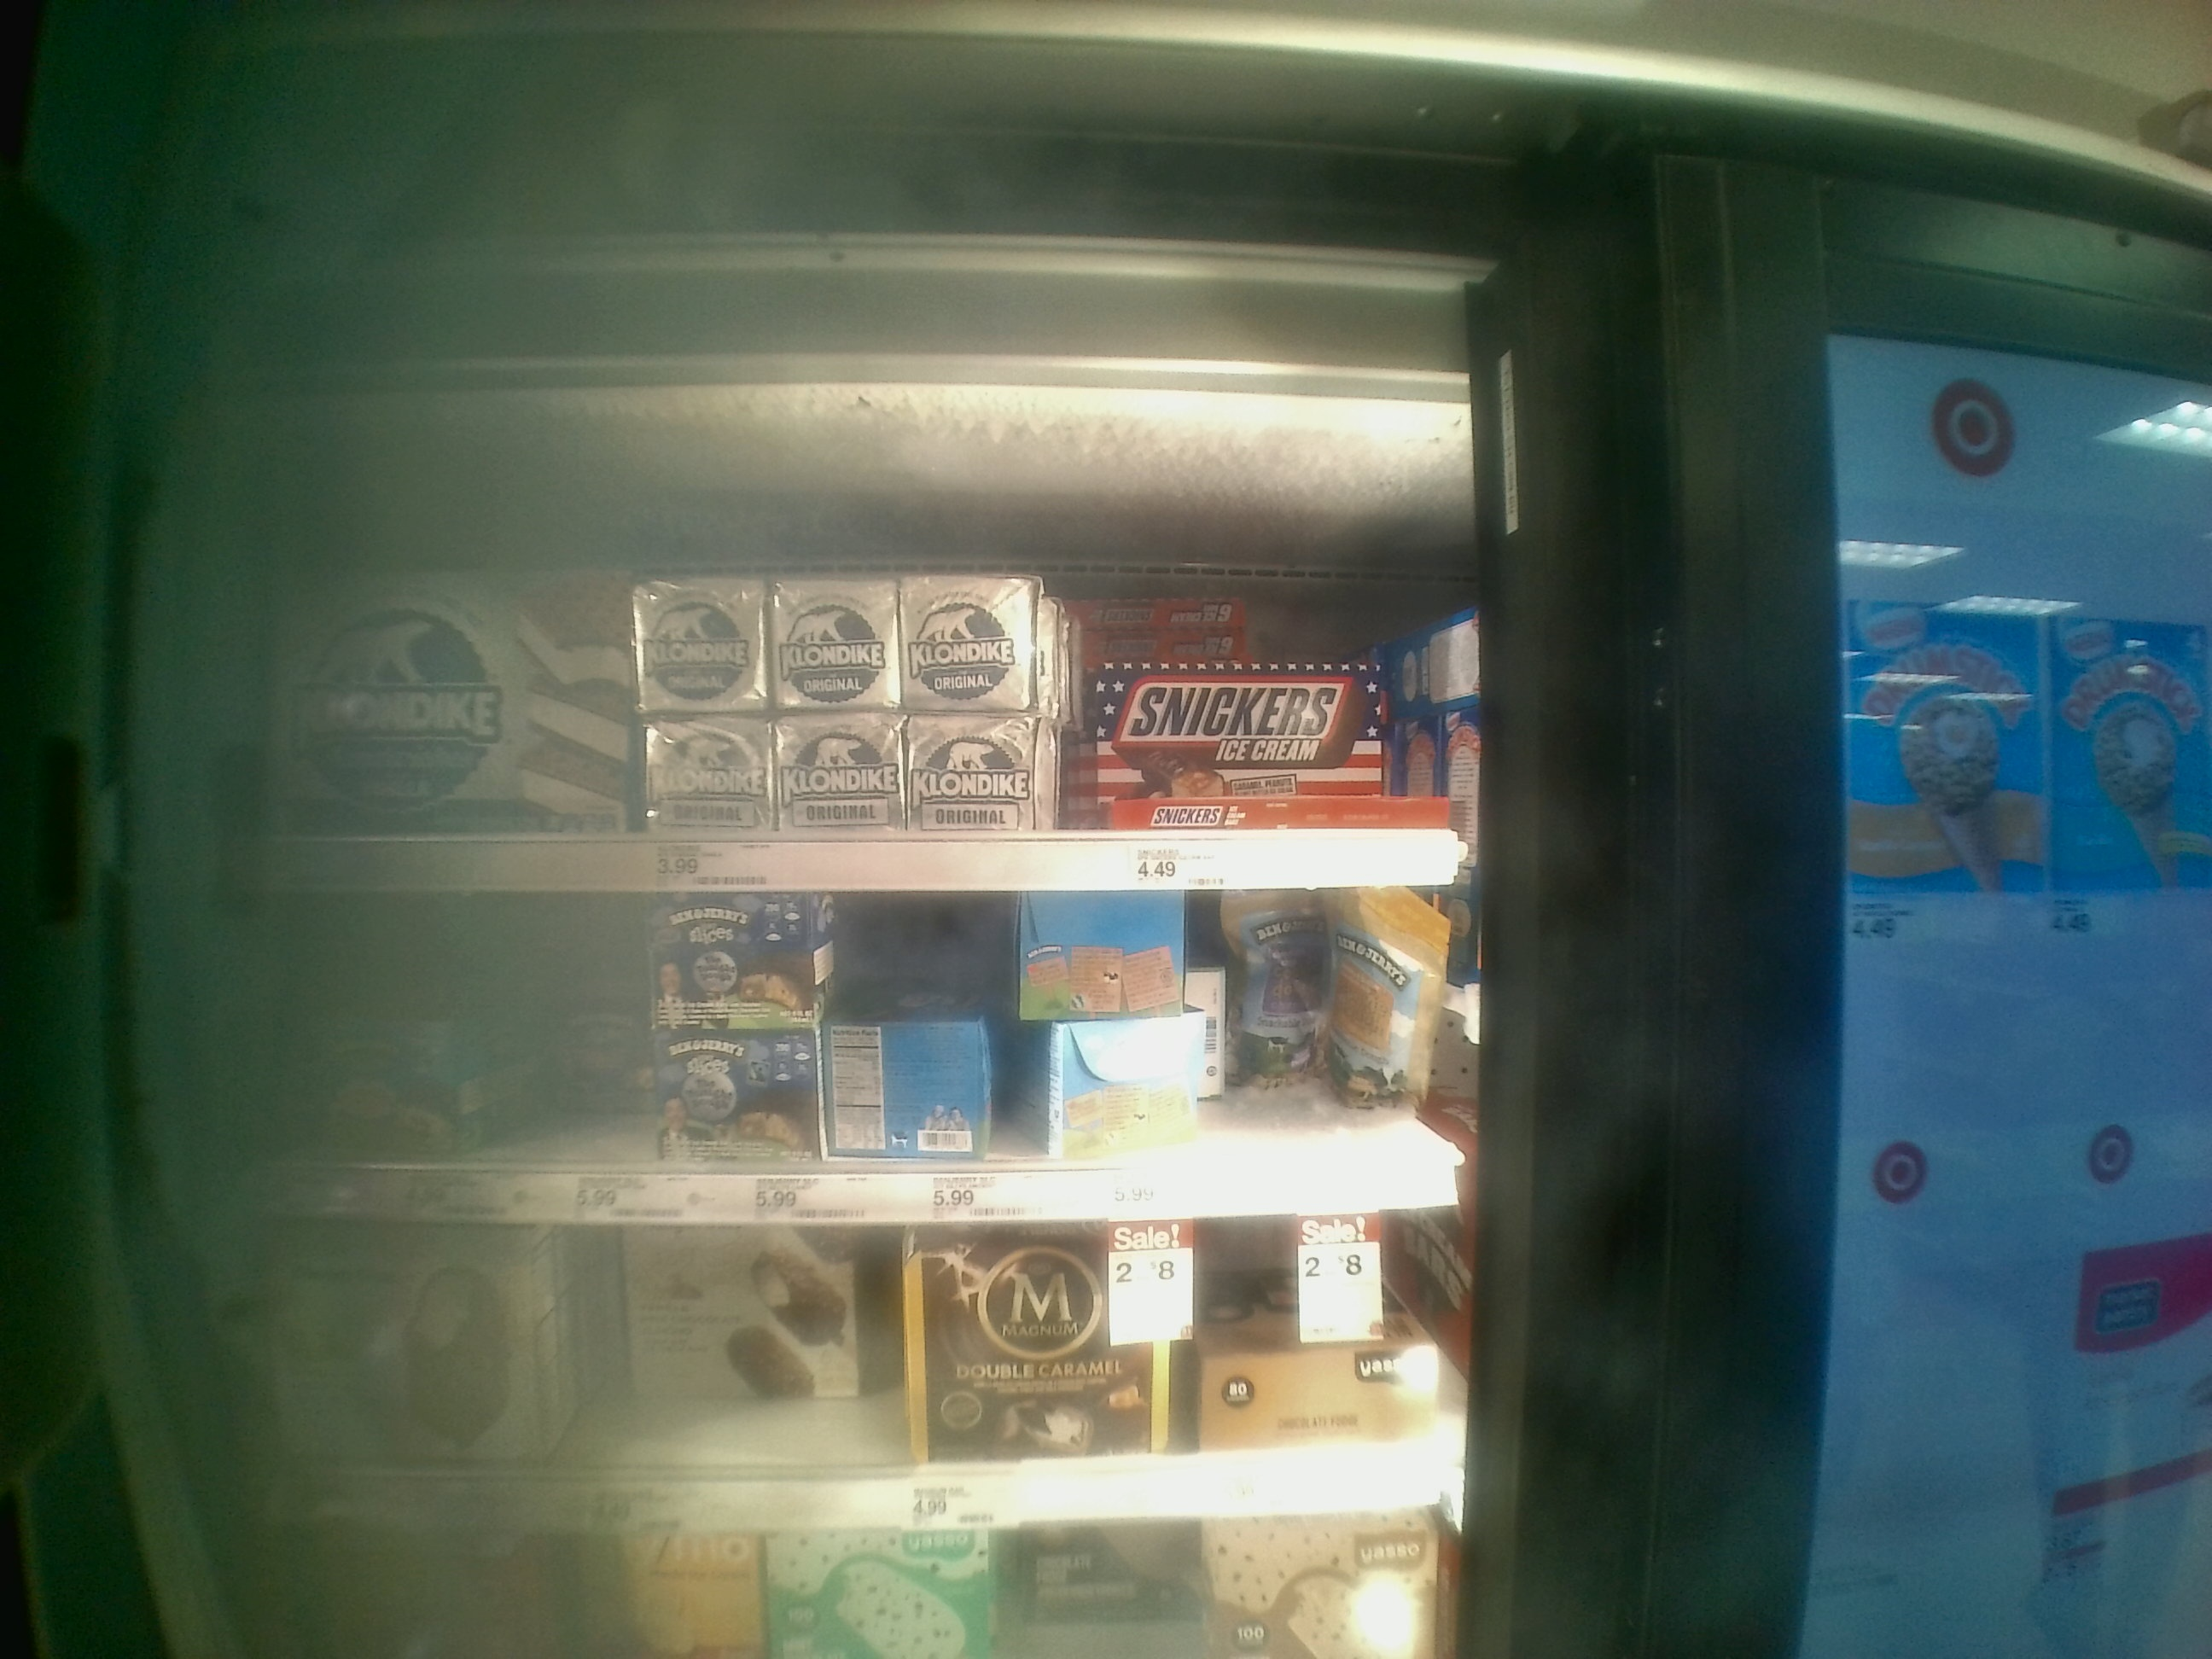shelf: (265, 512, 1470, 894), (256, 904, 1467, 1229)
